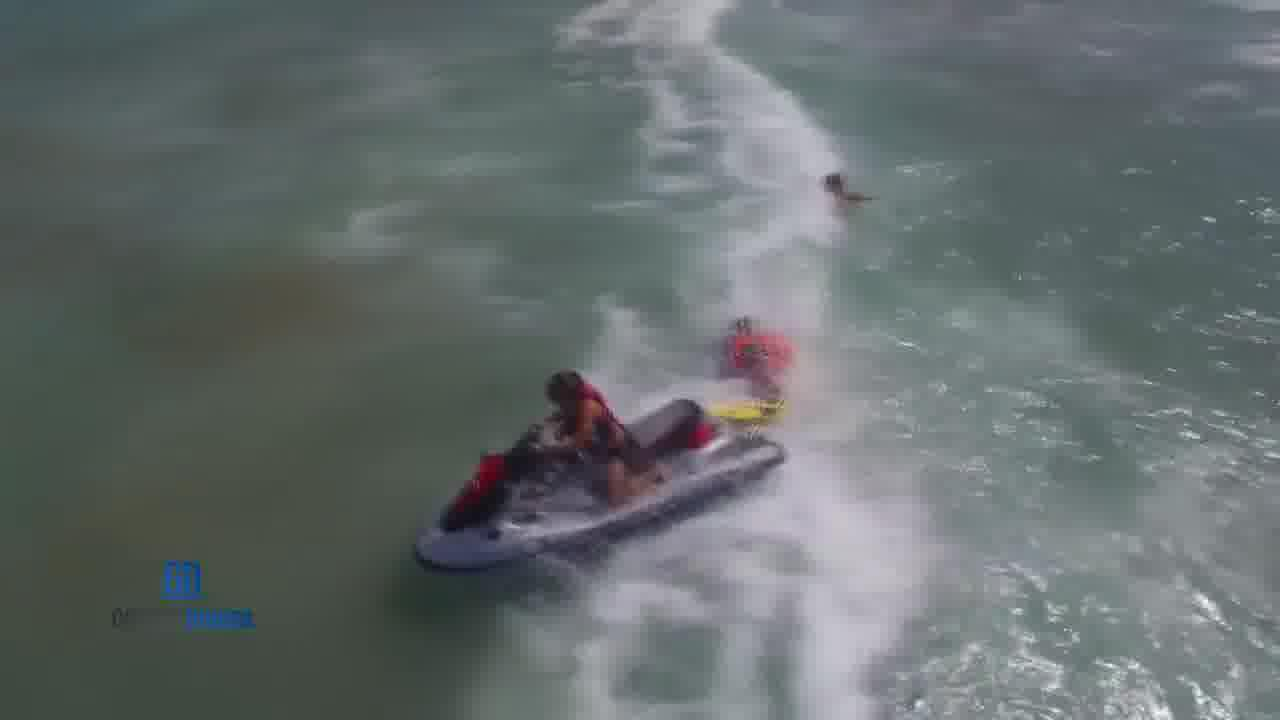human: (724, 315, 795, 399), (812, 160, 885, 226)
